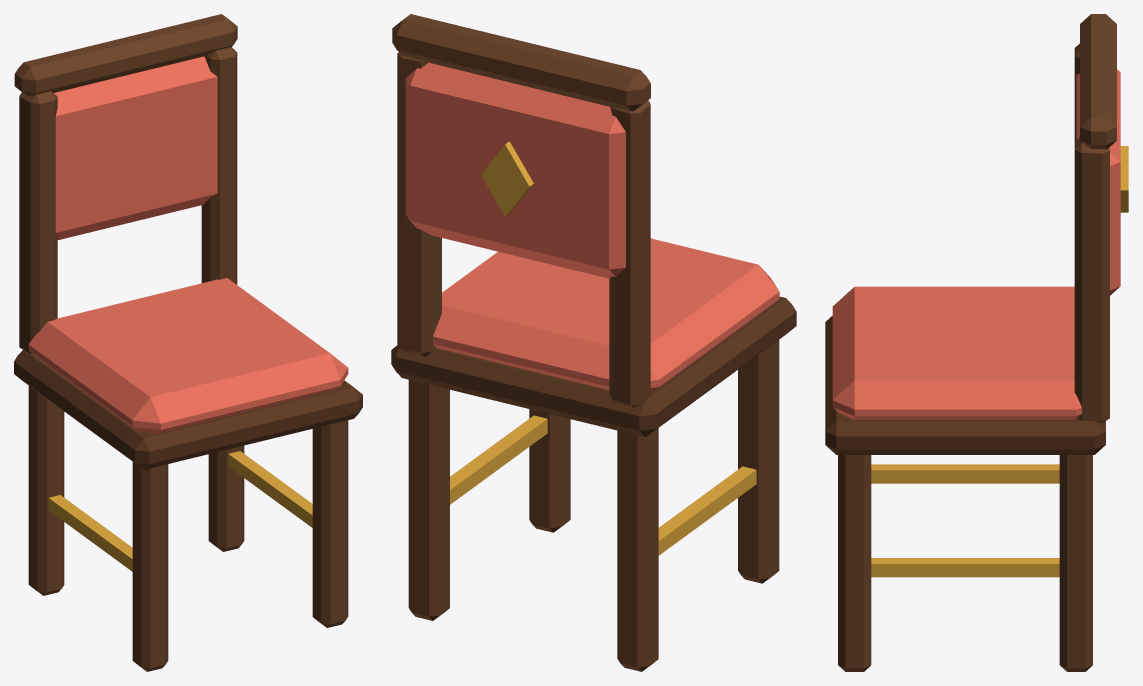
The model's file is casino_chair.glb.
3 views of the same model, side by side, from view 1: azimuth 30°, elevation 25°; view 2: azimuth 150°, elevation 25°; view 3: azimuth 270°, elevation 25° (orthographic). The views are drawn at different scales.
Parts seen in each view (by area): view 1: casino_chair; view 2: casino_chair; view 3: casino_chair.
Boxes of the visible parts, x1,y1,x2,y2 form: casino_chair: [14, 14, 362, 671]; casino_chair: [391, 14, 796, 671]; casino_chair: [825, 14, 1128, 671].
Bounding box in the file's own units: 0.38 × 0.83 × 0.411.
